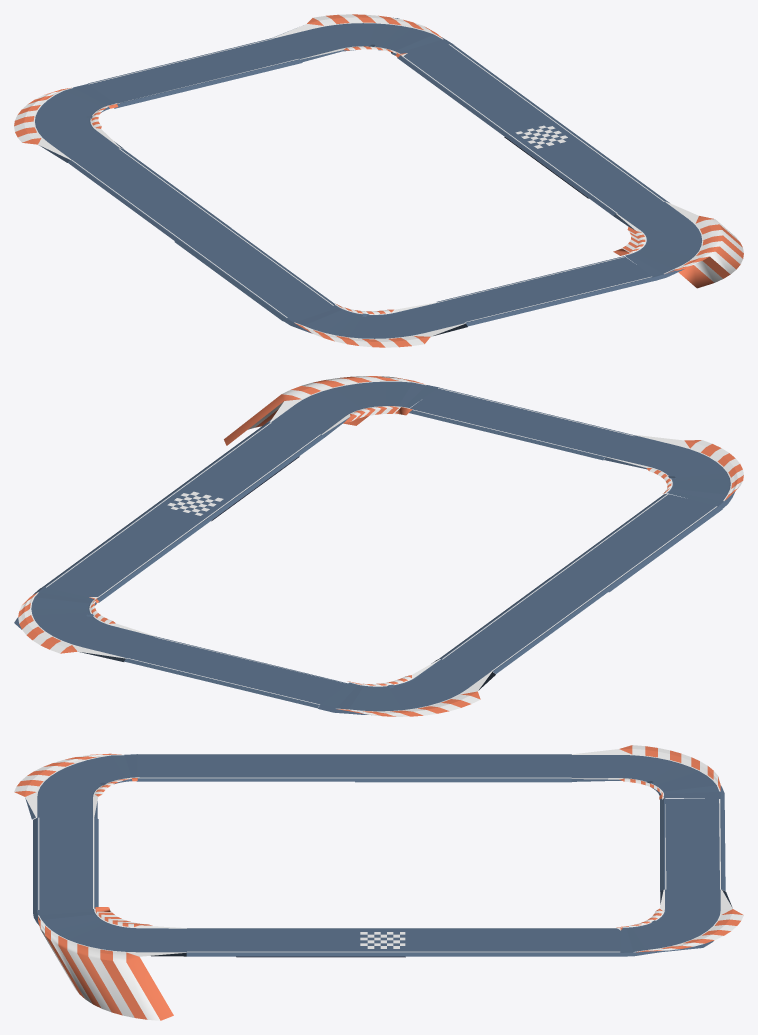
File: Circuito.fbx
3 views of the same model, one above another, from view 1: azimuth 30°, elevation 25°; view 2: azimuth 150°, elevation 25°; view 3: azimuth 270°, elevation 25° (orthographic). The views are drawn at different scales.
Visible parts, largest first — view 1: Recta.009, Recta, Recta.002, Recta.004, Recta.007, Recta.005, Recta.006, Recta.003, Recta.008, Recta.001; view 2: Recta.009, Recta, Recta.004, Recta.002, Recta.005, Recta.007, Recta.006, Recta.008, Recta.003, Recta.001; view 3: Recta.009, Recta, Recta.005, Recta.004, Recta.002, Recta.007, Recta.008, Recta.006, Recta.003, Recta.001.
Part boxes in pixels (x1,y1,x2,y2): Recta.009: (397, 44, 644, 198); Recta: (613, 201, 743, 288); Recta.002: (437, 256, 654, 326); Recta.004: (174, 227, 334, 320); Recta.007: (88, 38, 302, 108); Recta.005: (67, 148, 230, 241); Recta.006: (14, 84, 123, 162); Recta.003: (283, 302, 467, 347); Recta.008: (271, 14, 453, 62); Recta.001: (589, 184, 668, 215); Recta.009: (42, 441, 299, 602); Recta: (224, 376, 438, 445); Recta.004: (550, 493, 722, 592); Recta.002: (409, 387, 634, 460); Recta.005: (438, 576, 608, 673); Recta.007: (124, 636, 347, 708); Recta.006: (318, 659, 495, 716); Recta.008: (14, 587, 156, 661); Recta.003: (604, 435, 743, 508); Recta.001: (241, 422, 324, 455); Recta.009: (235, 928, 620, 957); Recta: (33, 907, 186, 1020); Recta.005: (355, 754, 571, 782); Recta.004: (136, 754, 355, 781); Recta.002: (33, 817, 98, 911); Recta.007: (660, 798, 725, 891); Recta.008: (616, 889, 743, 956); Recta.006: (571, 745, 724, 800); Recta.003: (14, 753, 141, 819); Recta.001: (186, 928, 235, 956).
Size of what is drawn, in the model's own units: 15676 by 1286 by 20518.
